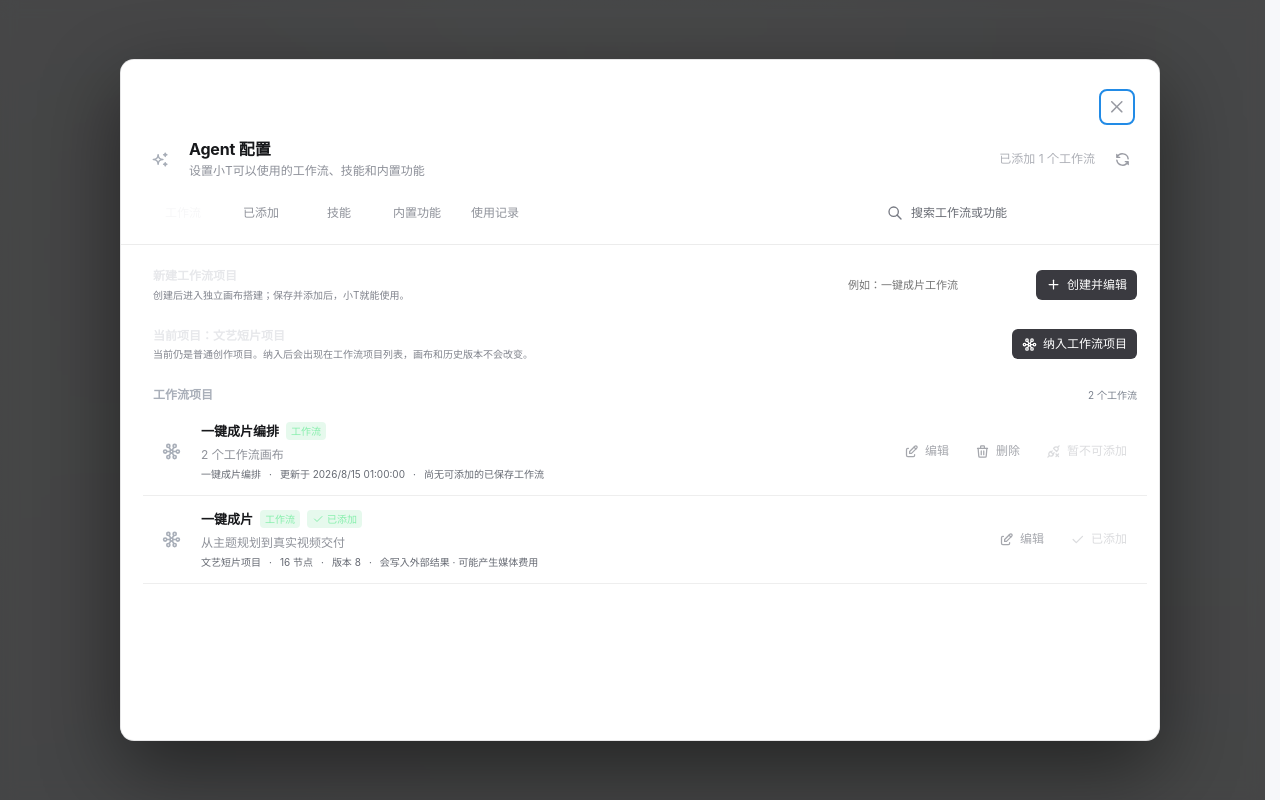
CapabilityBayDialog › unequips without presenting workflow deletion as part of the action
The image size is (1280, 800).
What coordinates should you click on to do the following:
click the tab "已添加"
I would click on:
 (261, 213)
Its box is top-left (224, 199), bottom-right (298, 227).
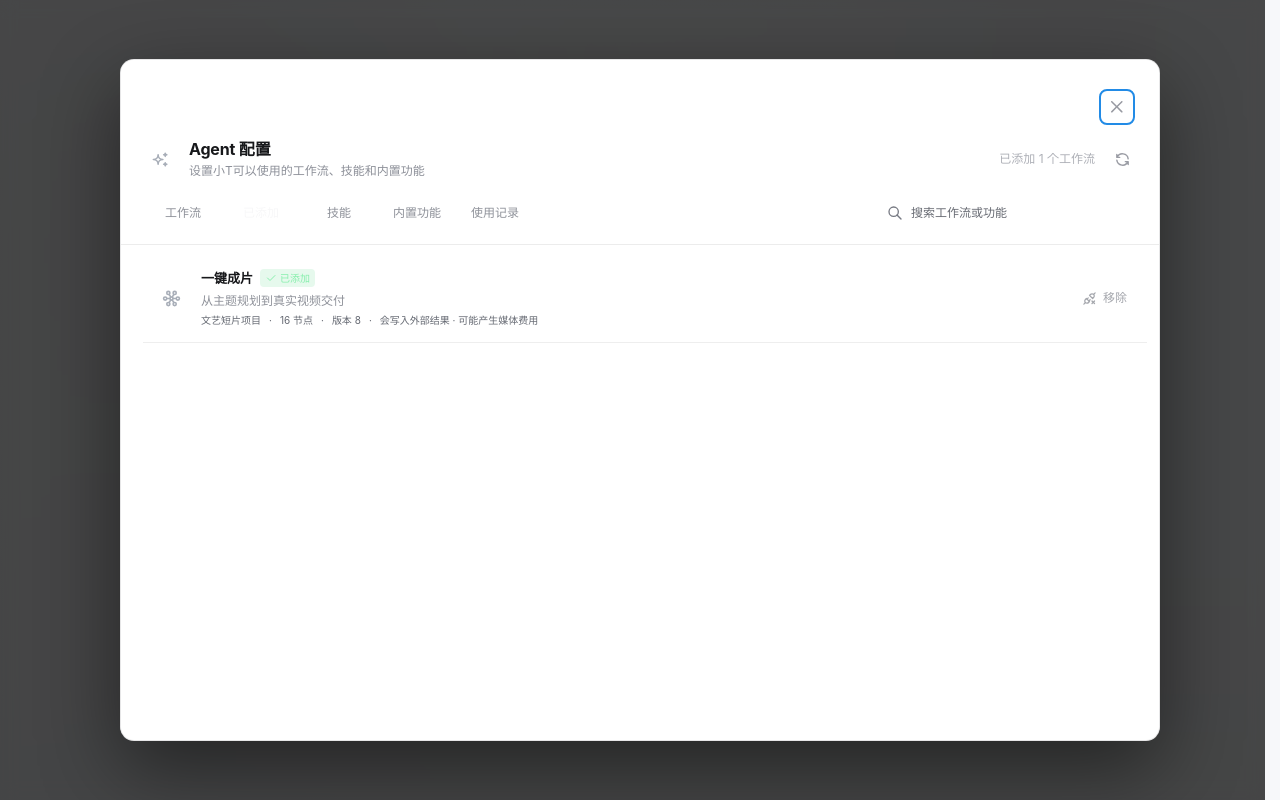
What coordinates should you click on to do the following:
click the button "移除"
I would click on:
 (1104, 298)
Its box is top-left (1072, 284), bottom-right (1137, 314).
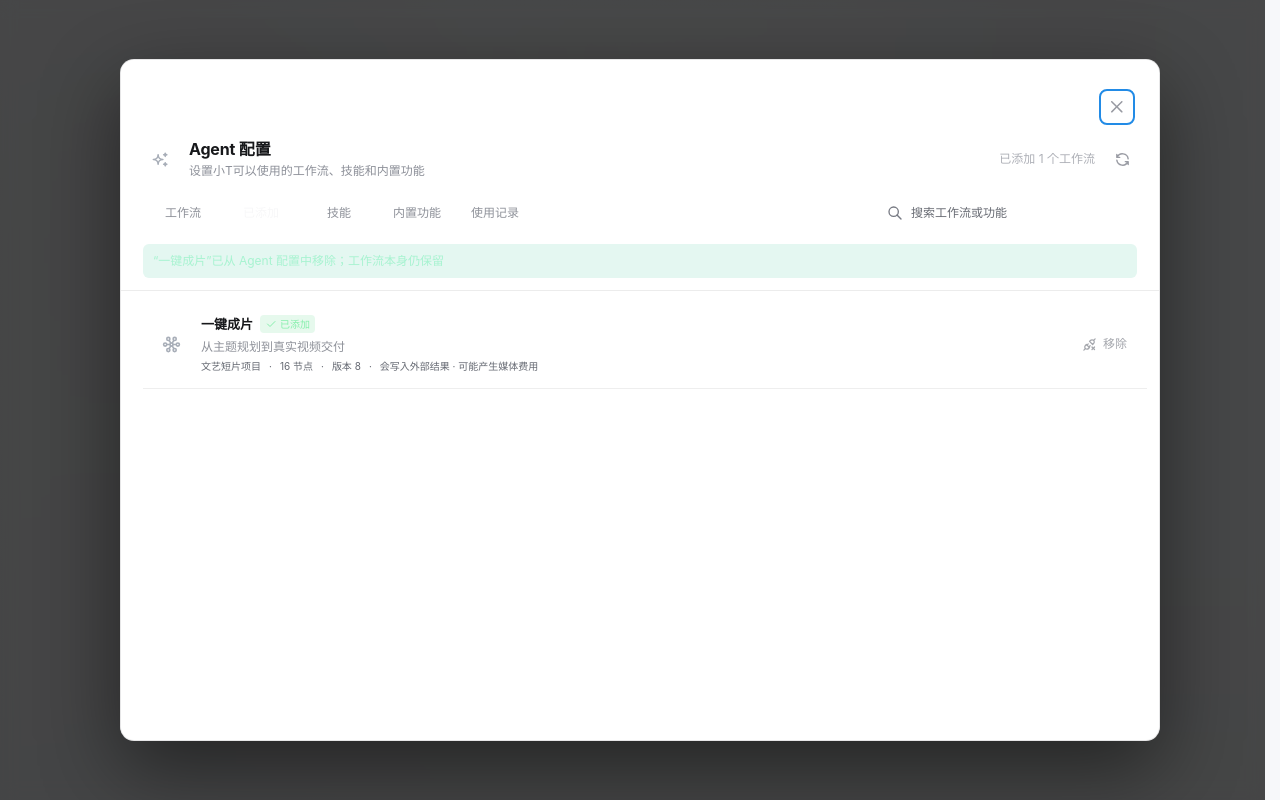
Result: the text "“一键成片”已从 Agent 配置中移除；工作流本身仍保留" is shown at top-left (143, 244), bottom-right (1137, 278)
